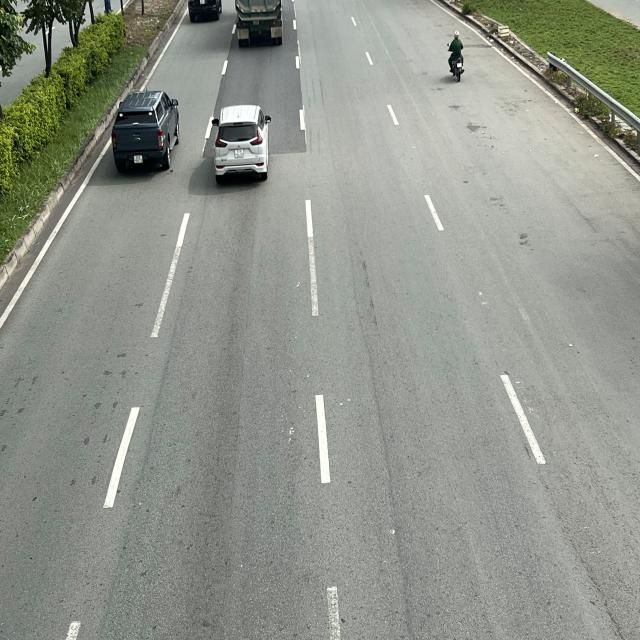car: (111, 90, 182, 170), (210, 105, 272, 182)
